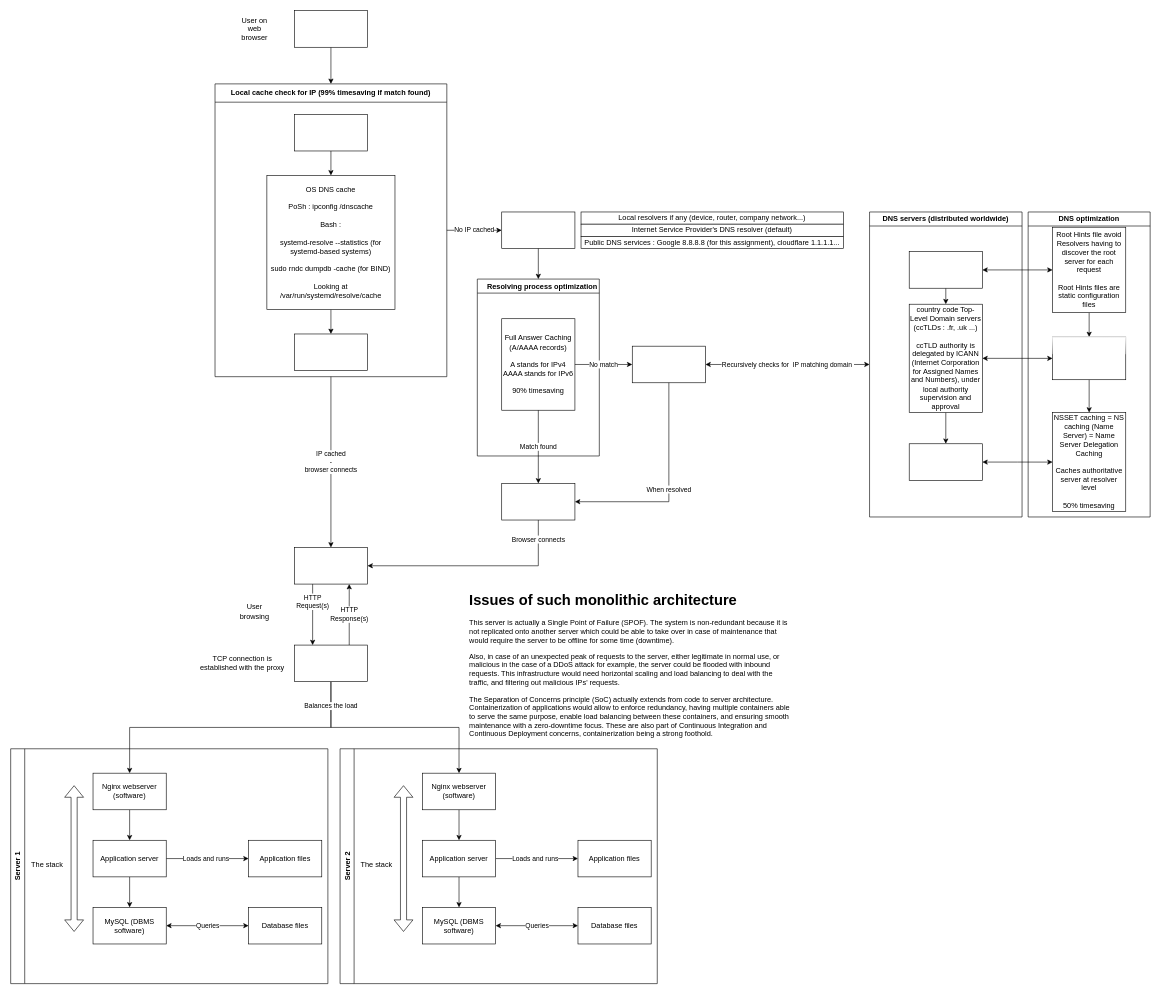
Some shapes in this 1161 by 994 pixel diagram are drawn without their labels. Here are the shapes that lost their labels. From the top down, the centre of each, then its label:
At (331,28): "www.foobar.com".
At (331,132): "Browser DNS cache".
At (538,230): "IP Resolvers".
At (945,269): "DNS root servers ( .com )".
At (331,352): "Router / Gateway / ISP's equipment DNS cache".
At (668,364): "Resolver finds the appropriate IP address(es)".
At (1089,358): "ccTLD server caching at resolver level allows skipping the root level".
At (945,461): "Authoritative servers (Registered ownership)".
At (538,501): "IP address is sent back to the browser and cached".
At (331,565): "TCP Connection - 3-way handshake".
At (331,663): "HAProxy acting as load balancer - reverse proxy".
